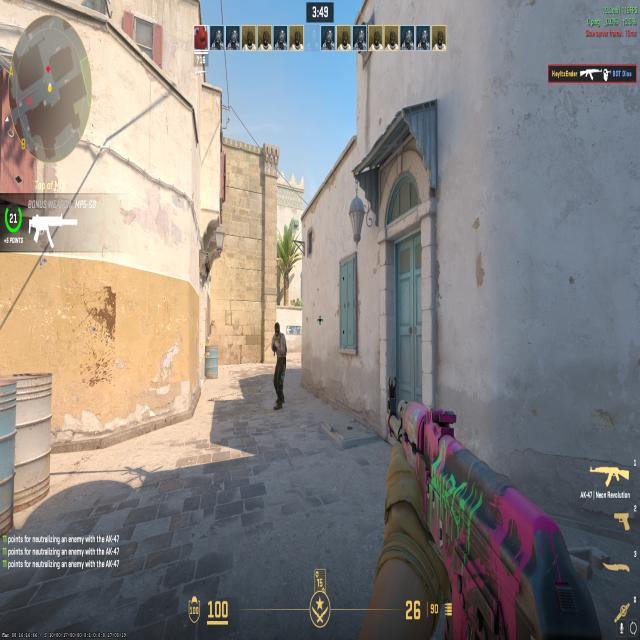t: (267, 314, 291, 416)
